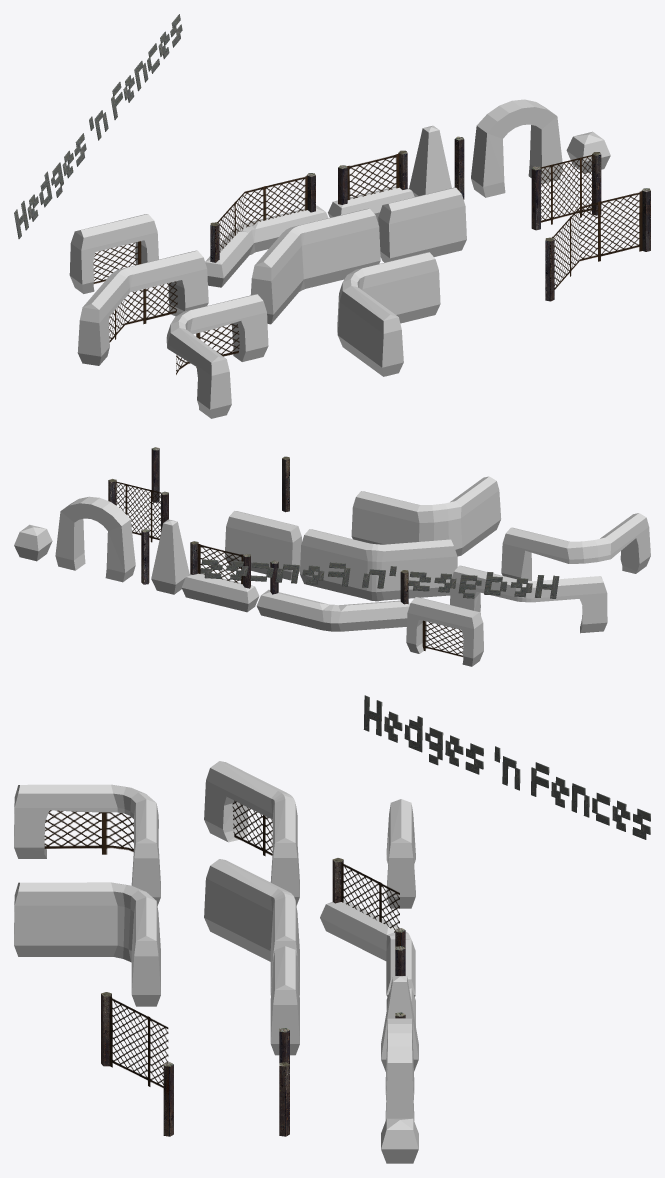
Rendered from Hedges.glb.
The picture shows the model from 3 angles, top to bottom: view 1: azimuth 30°, elevation 25°; view 2: azimuth 150°, elevation 25°; view 3: azimuth 270°, elevation 25°; orthographic projection. The views are drawn at different scales.
Parts seen in each view (by area): view 1: HedgeLongTall90, HedgeRoundTall, HedgeLongTall90Hole, HedgeRoundTallHole, HedgeGate, HedgeLongTall, WoodFenceLongSolo, HedgeLongTallHole, HedgeRound, Text, WoodFenceSolo, WoodFenceLong (+8 smaller); view 2: HedgeRoundTall, HedgeLongTall90, HedgeLongTall90Hole, HedgeGate, Text, HedgeRound, HedgeRoundTallHole, HedgeLongTall, HedgeLongTallHole, HedgeTall, HedgeLong, WoodFenceSolo (+6 smaller); view 3: HedgeLongTall90, HedgeLongTall90Hole, HedgeRoundTall, HedgeRoundTallHole, Text, WoodFenceLongSolo, HedgeRound, HedgeLongTallHole, HedgeGate, HedgeLongTall, WoodFenceLong, WoodFenceLongNoPillar90 (+4 smaller).
Boxes of the visible parts, bbox=[...] form: HedgeLongTall90: bbox=[337, 252, 440, 376]; HedgeRoundTall: bbox=[250, 208, 380, 324]; HedgeLongTall90Hole: bbox=[166, 294, 268, 418]; HedgeRoundTallHole: bbox=[77, 250, 208, 365]; HedgeGate: bbox=[471, 99, 562, 197]; HedgeLongTall: bbox=[378, 187, 466, 262]; WoodFenceLongSolo: bbox=[545, 188, 650, 301]; HedgeLongTallHole: bbox=[69, 214, 158, 293]; HedgeRound: bbox=[205, 205, 328, 287]; Text: bbox=[14, 14, 182, 238]; WoodFenceSolo: bbox=[531, 152, 601, 230]; WoodFenceLong: bbox=[210, 173, 315, 262]; HedgeRoundTall: bbox=[300, 529, 457, 601]; HedgeLongTall90: bbox=[351, 476, 501, 556]; HedgeLongTall90Hole: bbox=[501, 513, 650, 580]; HedgeGate: bbox=[55, 496, 135, 582]; Text: bbox=[200, 559, 559, 598]; HedgeRound: bbox=[256, 589, 409, 631]; HedgeRoundTallHole: bbox=[450, 565, 607, 633]; HedgeLongTall: bbox=[224, 511, 301, 580]; HedgeLongTallHole: bbox=[406, 597, 483, 666]; HedgeTall: bbox=[151, 519, 189, 594]; HedgeLong: bbox=[181, 573, 259, 612]; WoodFenceSolo: bbox=[108, 478, 168, 542]; HedgeLongTall90: bbox=[14, 882, 160, 1006]; HedgeLongTall90Hole: bbox=[14, 784, 160, 905]; HedgeRoundTall: bbox=[204, 859, 299, 994]; HedgeRoundTallHole: bbox=[204, 761, 299, 905]; Text: bbox=[363, 695, 650, 839]; WoodFenceLongSolo: bbox=[101, 992, 173, 1136]; HedgeRound: bbox=[320, 900, 415, 997]; HedgeLongTallHole: bbox=[386, 799, 415, 908]; HedgeGate: bbox=[385, 1018, 414, 1120]; HedgeLongTall: bbox=[270, 946, 299, 1055]; WoodFenceLong: bbox=[332, 858, 405, 947]; WoodFenceLongNoPillar90: bbox=[44, 810, 133, 854].
Size of the model in its own units: 21.05 by 4.98 by 16.5.
Materials: 5 (4 with a texture image).
